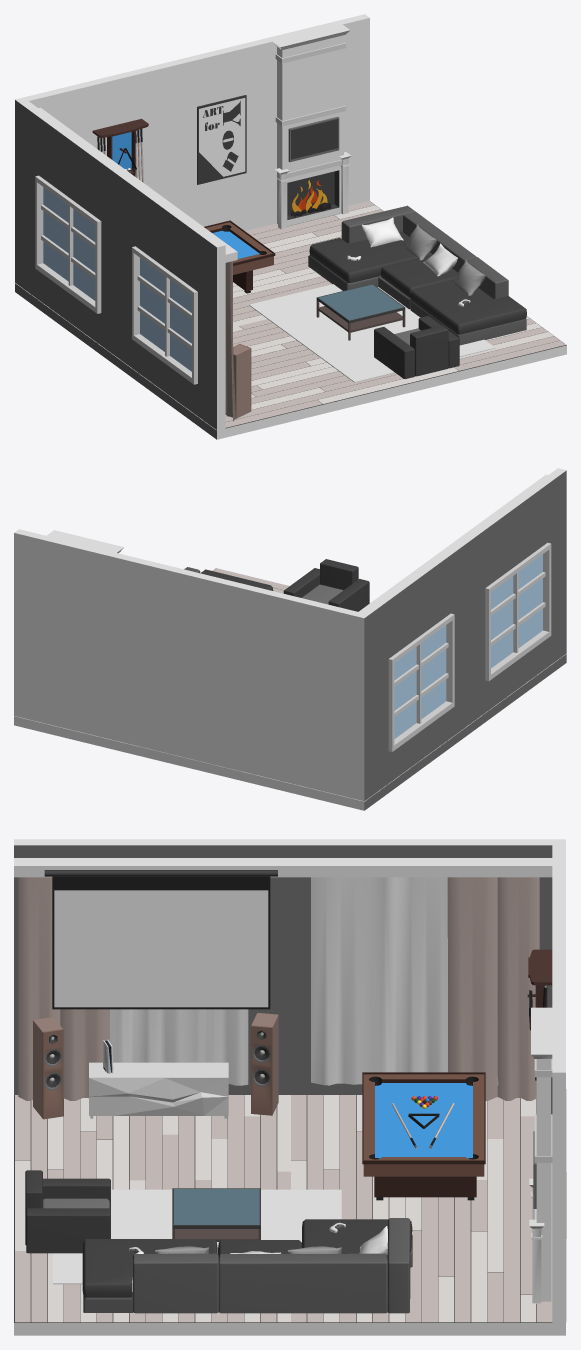
File: room_2.glb
The picture shows the model from 3 angles, top to bottom: view 1: azimuth 30°, elevation 25°; view 2: azimuth 150°, elevation 25°; view 3: azimuth 270°, elevation 25°; orthographic projection. The views are drawn at different scales.
Visible parts, largest first — view 1: Walls_006.137, sofa_028.006, tv_wall_006.003, Walls_046.017, floor_017.009, Walls_006.138, window_020.006, Walls_046.019, window_020.007, Walls_046.015, Walls_011.019, floor_017.010 (+16 smaller); view 2: Walls_006.137, Walls_046.017, Walls_046.016, window_020.006, window_020.007, Walls_046.019, Walls_046.015, armchair_002.001, Walls_046.018, tv_wall_006.003, Walls_003.054, sofa_028.006; view 3: entertainment_037.001, Curtains_027.002, sofa_028.006, floor_017.009, Curtains_032.001, floor_017.010, entertainment_036.001, floor_017.012, Walls_011.019, Walls_046.017, Curtains_032.002, Walls_003.054 (+15 smaller).
Boxes of the visible parts, x1=… form: Walls_006.137: x1=24, y1=14, x2=369, y2=230; sofa_028.006: x1=308, y1=205, x2=526, y2=345; tv_wall_006.003: x1=273, y1=24, x2=351, y2=229; Walls_046.017: x1=40, y1=116, x2=204, y2=290; floor_017.009: x1=115, y1=319, x2=390, y2=430; Walls_006.138: x1=249, y1=284, x2=495, y2=382; window_020.006: x1=35, y1=175, x2=101, y2=313; Walls_046.019: x1=40, y1=272, x2=196, y2=424; window_020.007: x1=132, y1=246, x2=197, y2=384; Walls_046.015: x1=196, y1=230, x2=225, y2=439; Walls_011.019: x1=225, y1=201, x2=566, y2=437; floor_017.010: x1=245, y1=201, x2=383, y2=299; Walls_006.137: x1=14, y1=529, x2=360, y2=808; Walls_046.017: x1=381, y1=483, x2=546, y2=657; Walls_046.016: x1=355, y1=597, x2=389, y2=810; window_020.006: x1=388, y1=613, x2=454, y2=751; window_020.007: x1=485, y1=542, x2=551, y2=681; Walls_046.019: x1=389, y1=639, x2=546, y2=791; Walls_046.015: x1=538, y1=468, x2=566, y2=676; armchair_002.001: x1=283, y1=559, x2=369, y2=611; Walls_046.018: x1=452, y1=590, x2=485, y2=698; tv_wall_006.003: x1=46, y1=530, x2=124, y2=553; Walls_003.054: x1=358, y1=474, x2=547, y2=612; sofa_028.006: x1=184, y1=567, x2=273, y2=590; entertainment_037.001: x1=44, y1=870, x2=277, y2=1009; Curtains_027.002: x1=311, y1=877, x2=498, y2=1085; sofa_028.006: x1=82, y1=1218, x2=412, y2=1313; floor_017.009: x1=15, y1=1095, x2=290, y2=1205; Curtains_032.001: x1=447, y1=877, x2=539, y2=1100; floor_017.010: x1=291, y1=1205, x2=566, y2=1322; entertainment_036.001: x1=362, y1=1072, x2=485, y2=1200; floor_017.012: x1=291, y1=1089, x2=566, y2=1205; Walls_011.019: x1=14, y1=1095, x2=552, y2=1335; Walls_046.017: x1=69, y1=839, x2=496, y2=926; Curtains_032.002: x1=18, y1=877, x2=109, y2=1100; Walls_003.054: x1=14, y1=858, x2=552, y2=877.
Bounding box in the file's own units: 8.09 × 4.2 × 8.01.
1 material, 1 textured.
